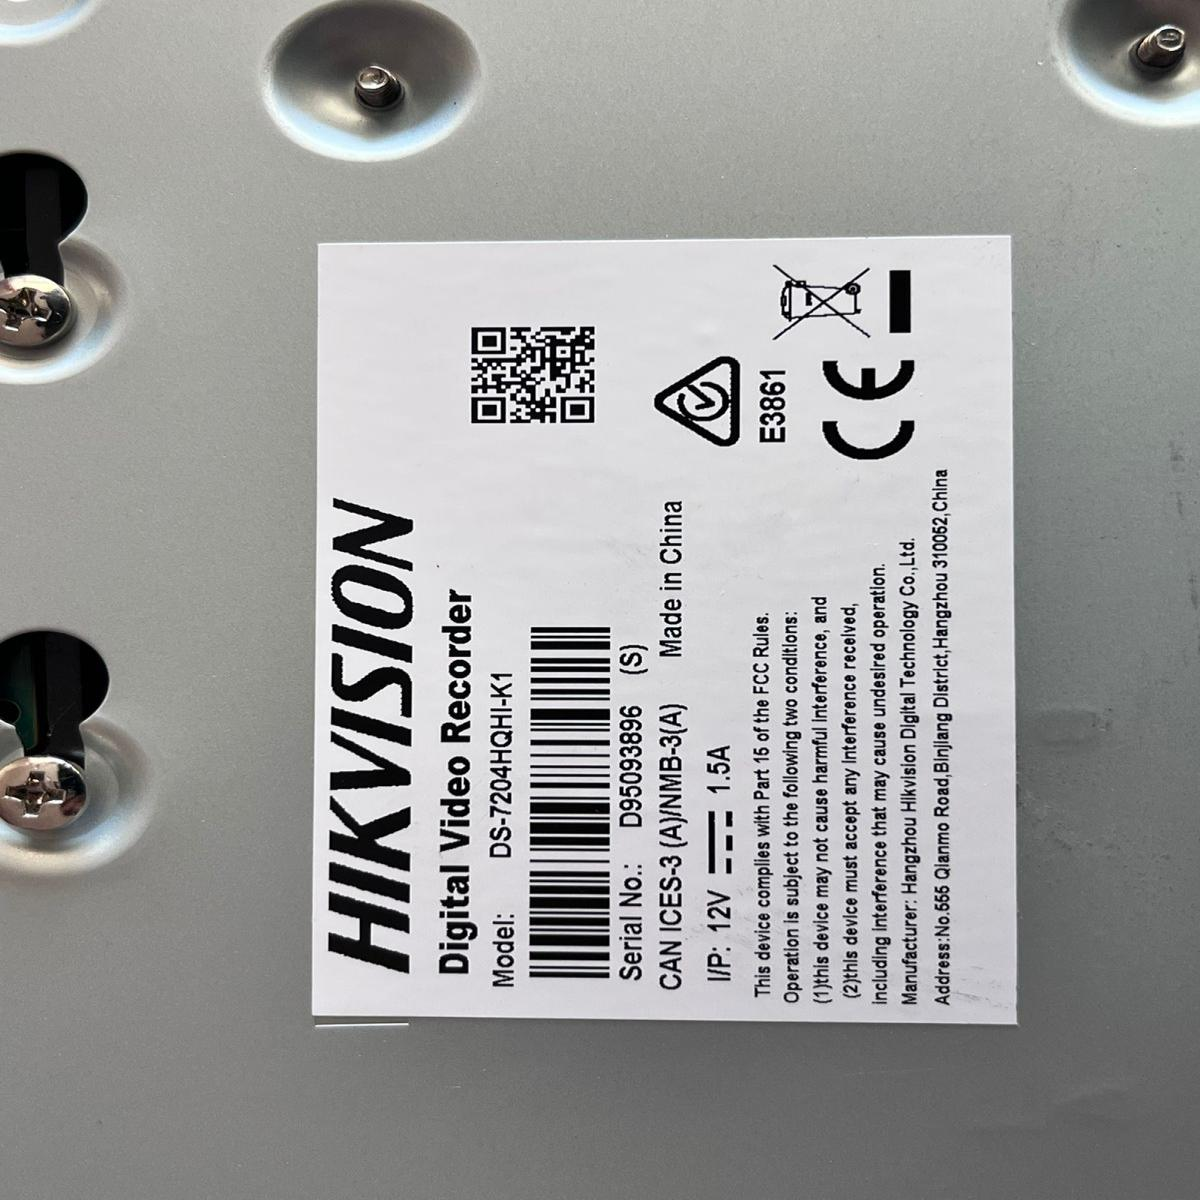Barcode: (515, 613, 620, 988)
Label: (315, 247, 1010, 1018)
